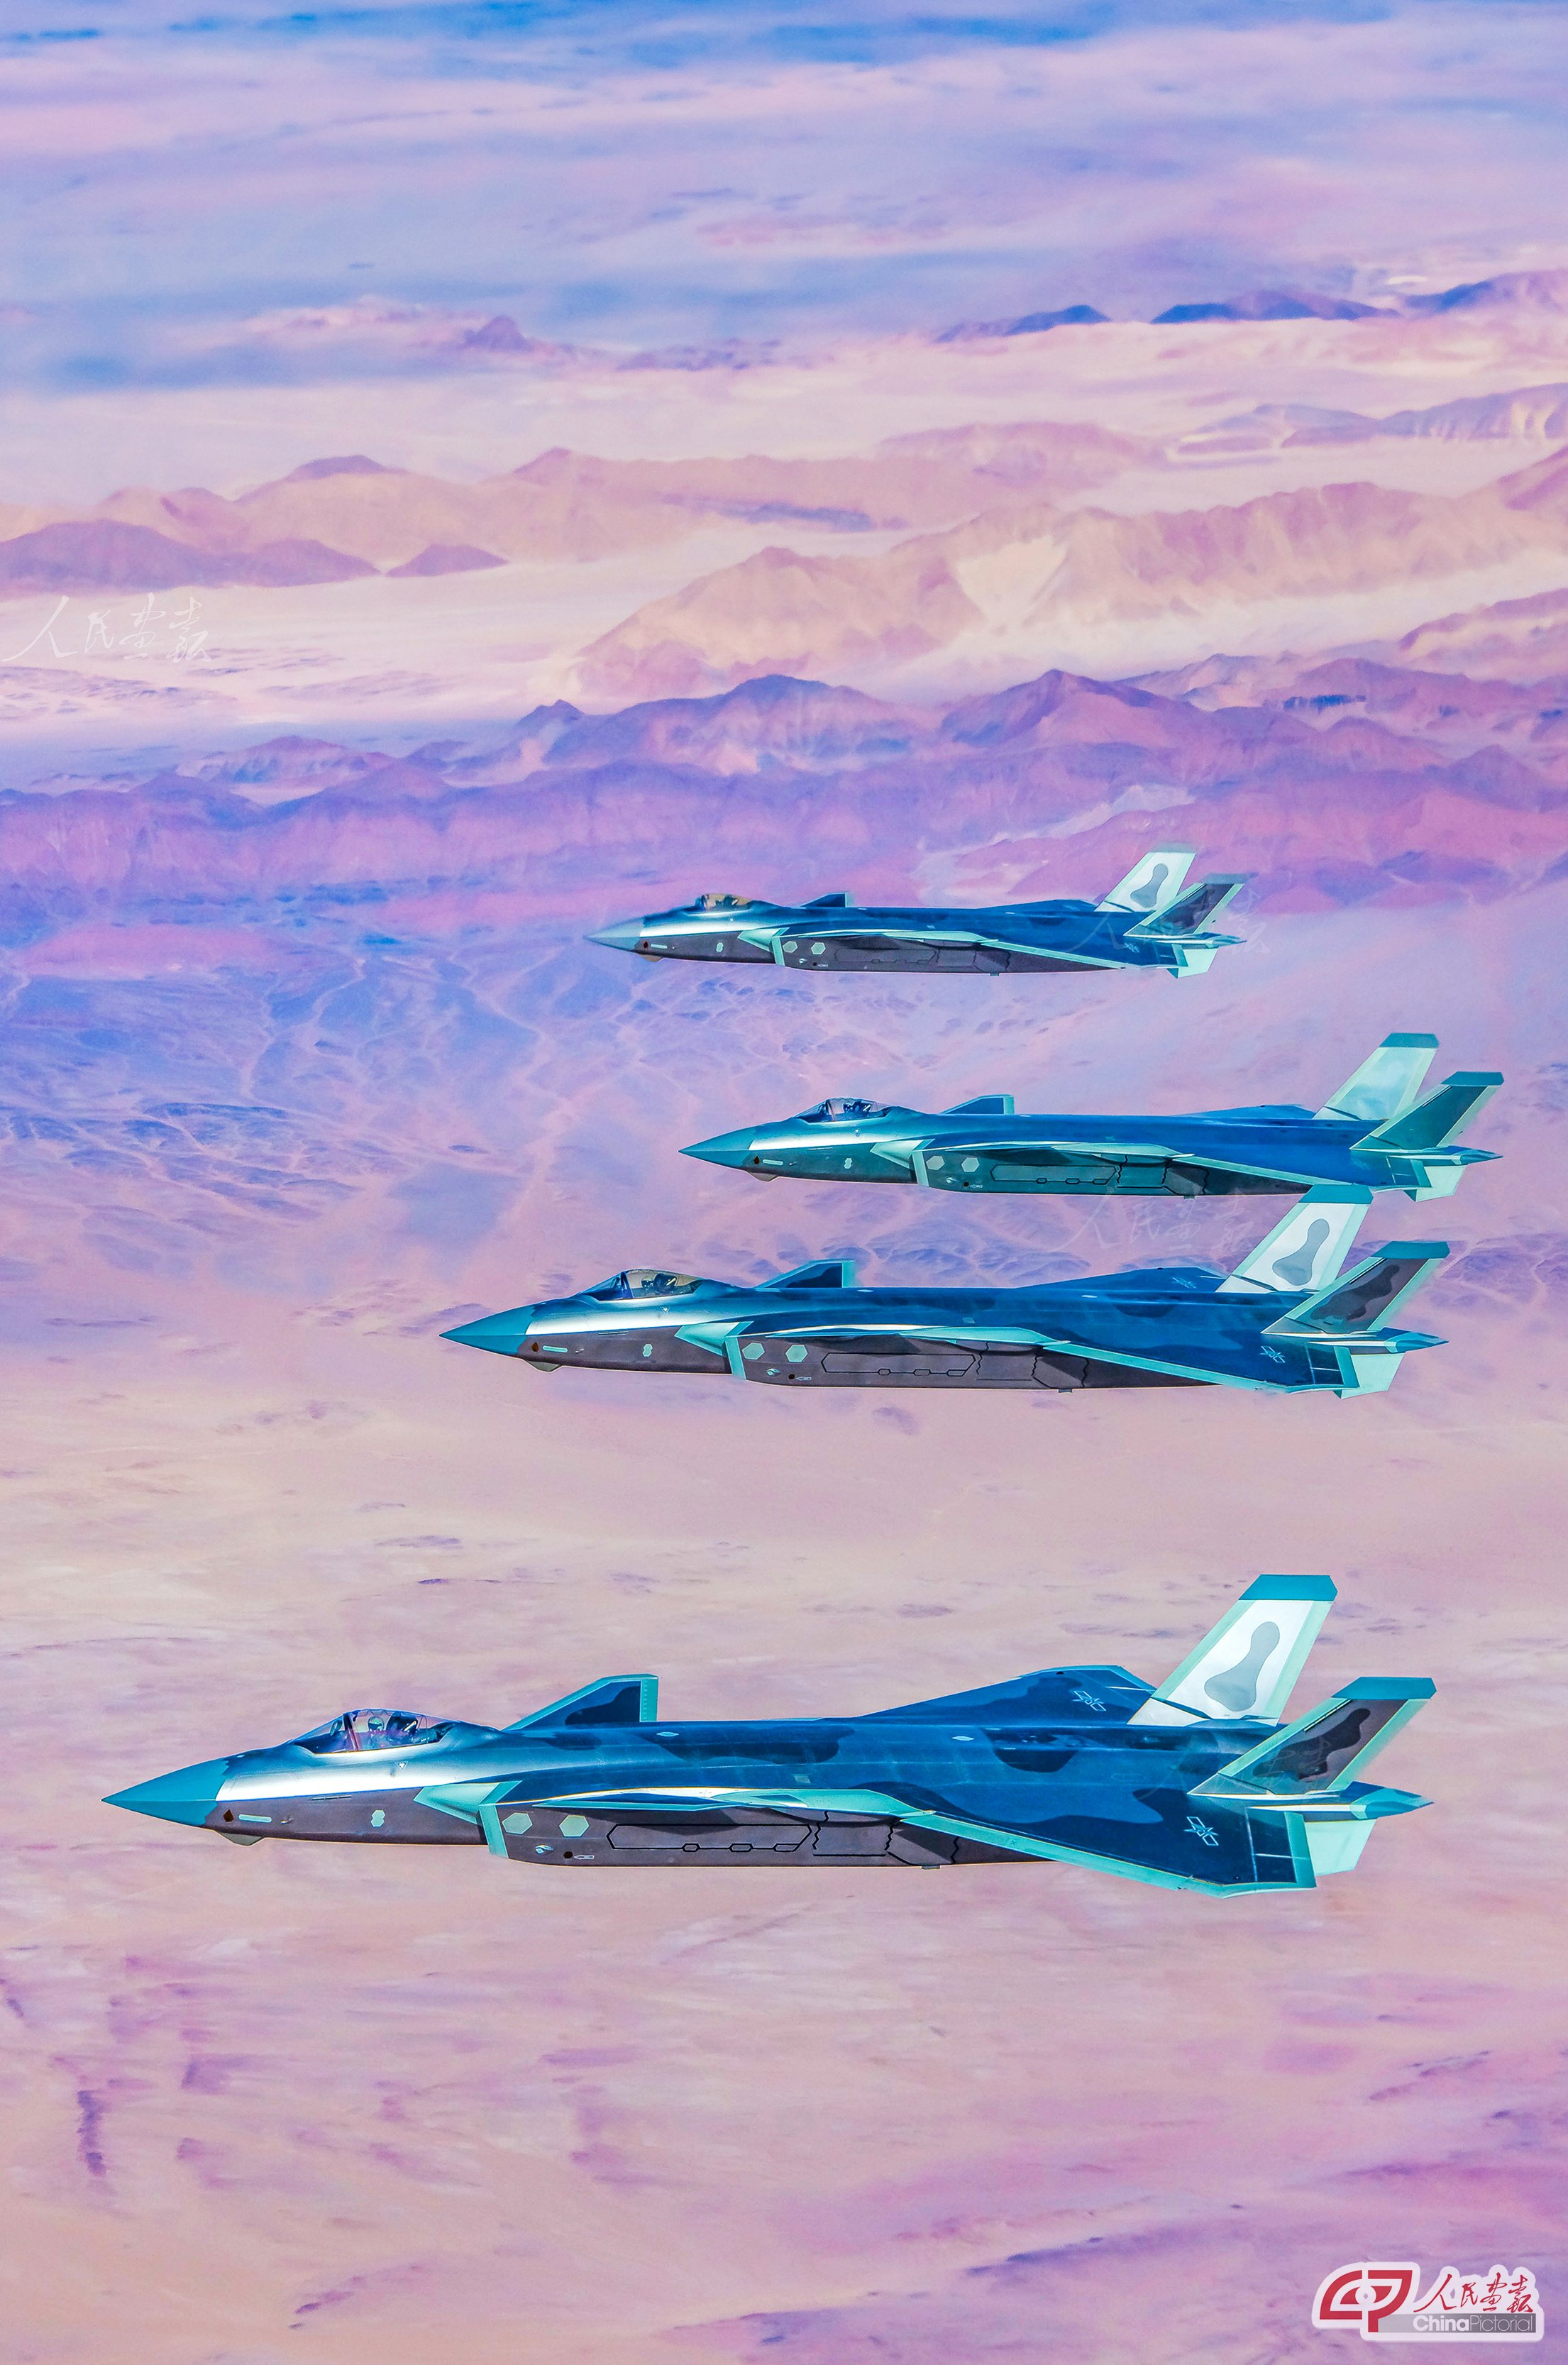J20: (98, 1573, 1437, 1900), (438, 1184, 1451, 1399), (675, 1032, 1505, 1203), (581, 841, 1249, 980)
